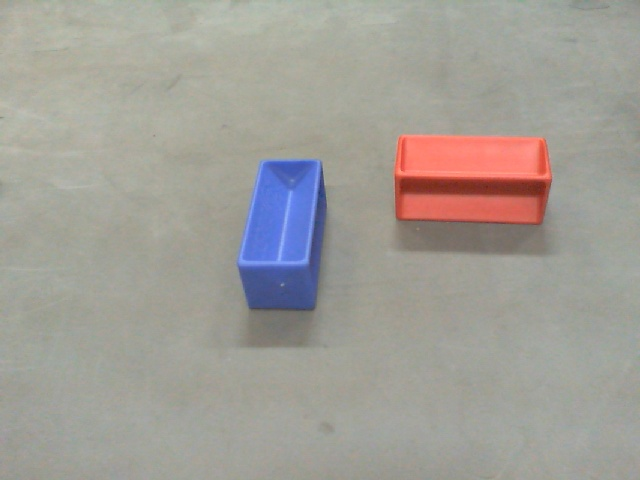BlueSample: (237, 158, 327, 319)
RedSample: (392, 129, 556, 228)
